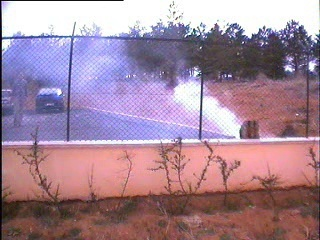smoke: (171, 72, 247, 138)
